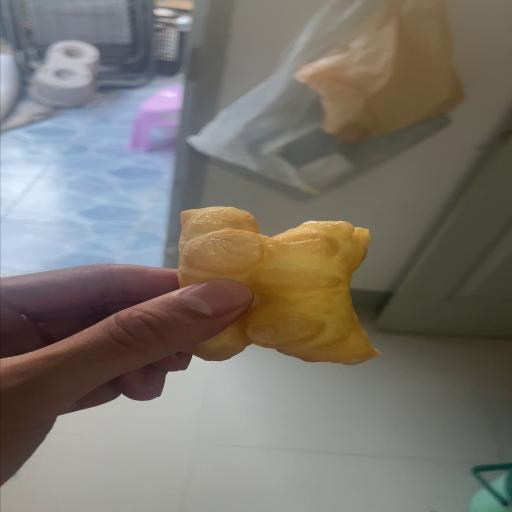street_golden_good: (180, 208, 376, 362)
